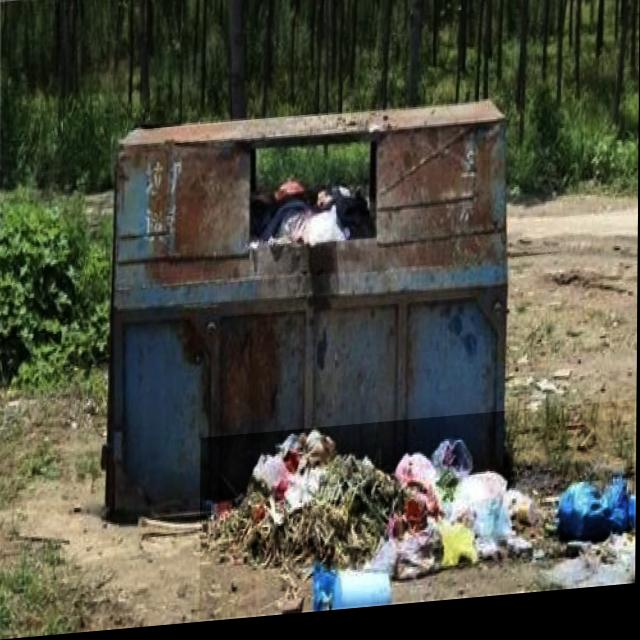garbage: (200, 411, 636, 624)
overflow: (109, 106, 507, 524)
